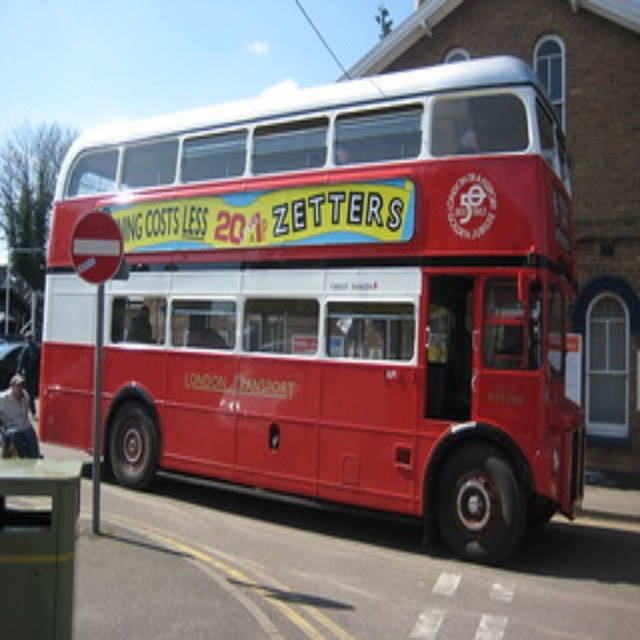Bus: (38, 53, 586, 565)
